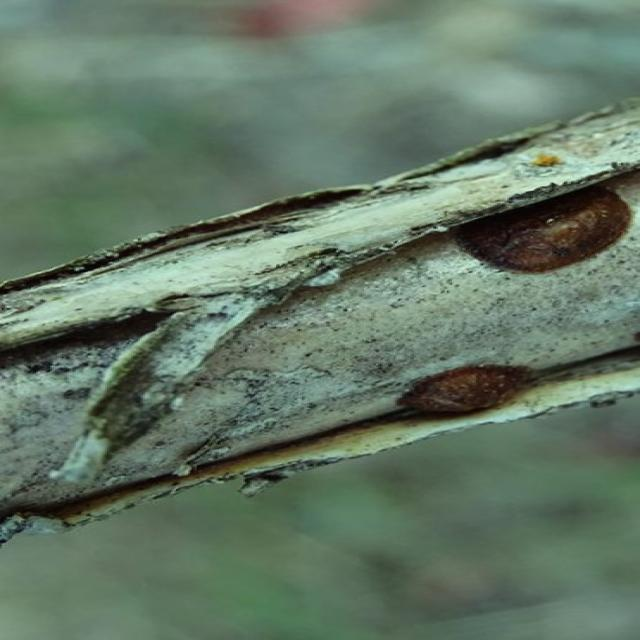Black Scale: (452, 173, 631, 272), (398, 365, 530, 411)
